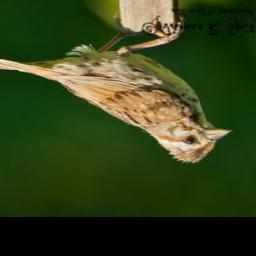Sparrow: (0, 10, 228, 165)
